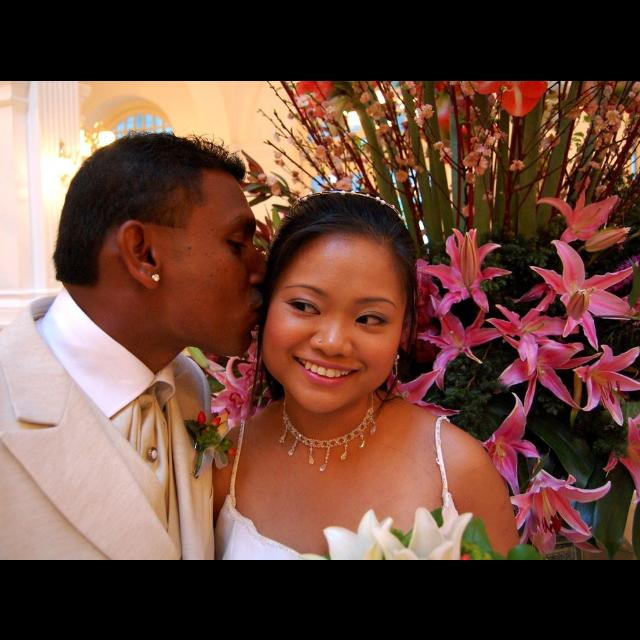Flower: (186, 80, 640, 558), (520, 460, 604, 548)
